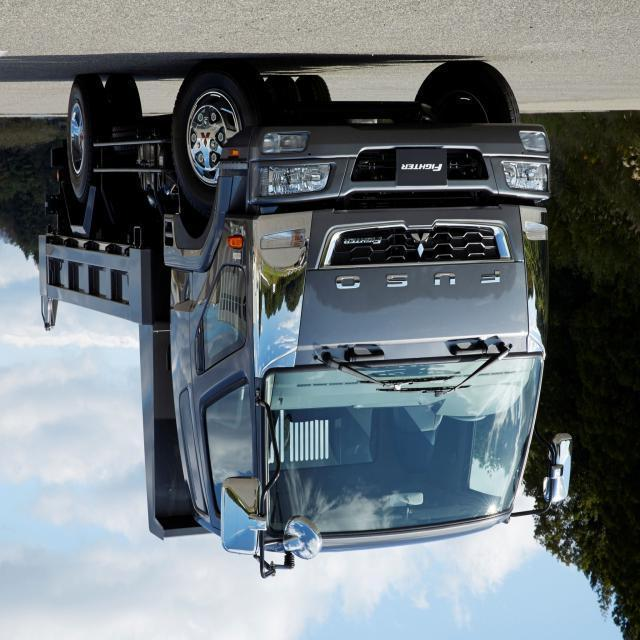Truck: (35, 59, 583, 577)
